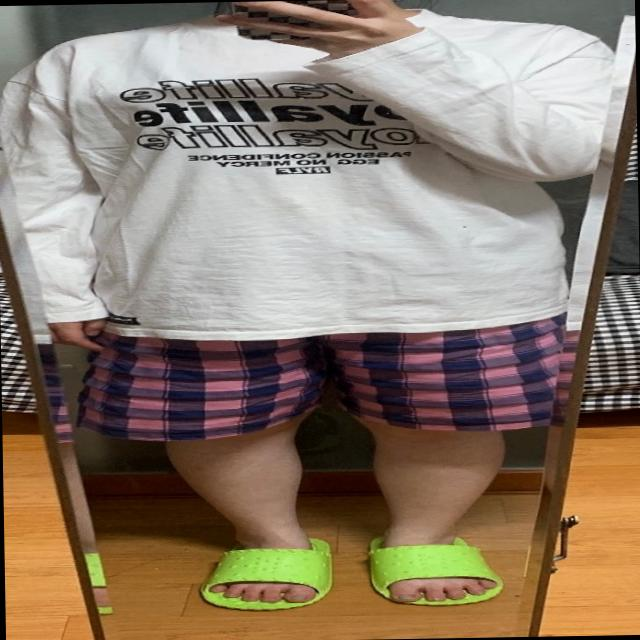longsleeve: (2, 2, 624, 340)
shortpants: (70, 331, 584, 448)
